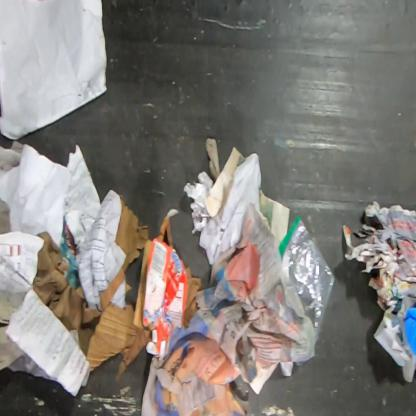cardboard: (33, 231, 103, 358), (132, 217, 188, 361), (86, 268, 152, 384), (115, 196, 149, 272), (184, 266, 204, 328)
soft_plastic: (278, 213, 336, 347), (0, 196, 13, 236), (294, 361, 308, 368)
